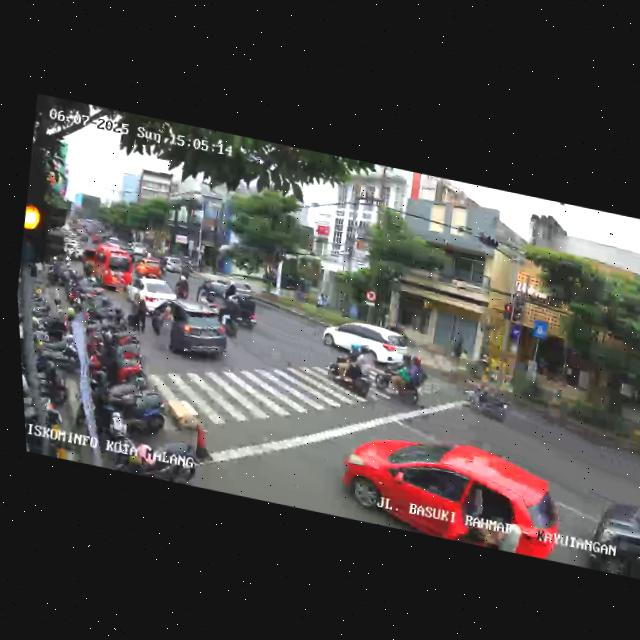car: (332, 420, 570, 562), (144, 297, 233, 369), (583, 487, 640, 580), (322, 315, 412, 370), (79, 241, 136, 295), (125, 273, 181, 317), (202, 273, 254, 304), (133, 255, 164, 279), (159, 253, 185, 276)
motorcycle: (370, 346, 435, 411), (321, 337, 379, 405), (457, 371, 518, 428), (215, 302, 244, 338), (195, 284, 222, 313), (220, 279, 243, 303), (173, 274, 191, 302)
person: (152, 303, 177, 353), (133, 295, 152, 336)
